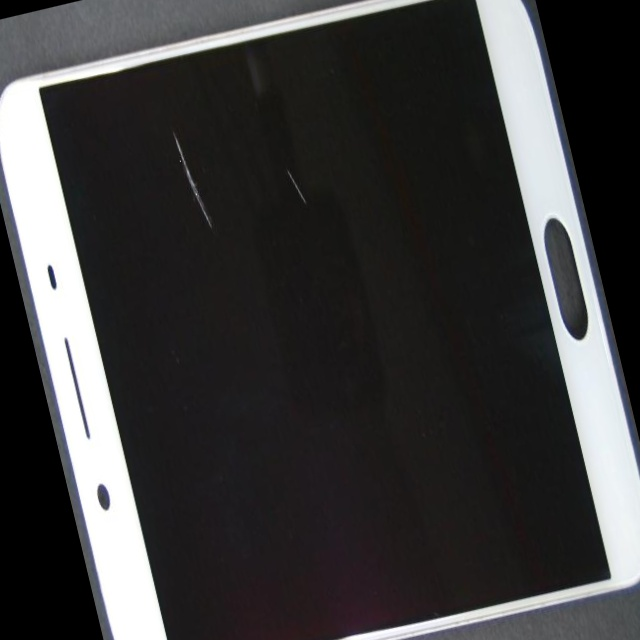scratch: (118, 28, 456, 355), (37, 14, 302, 332)
